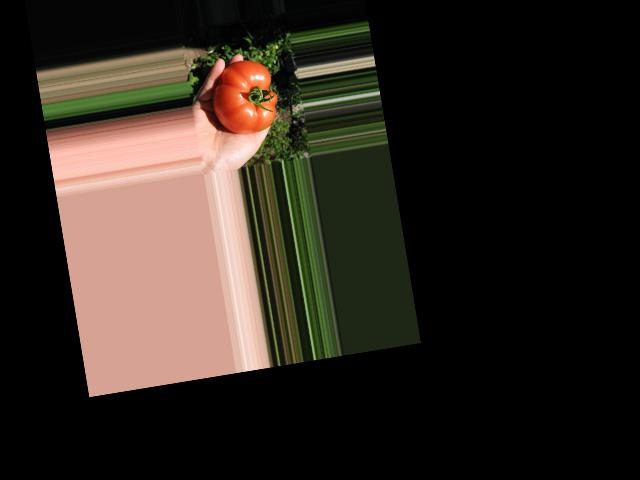tomato: (207, 55, 281, 138)
